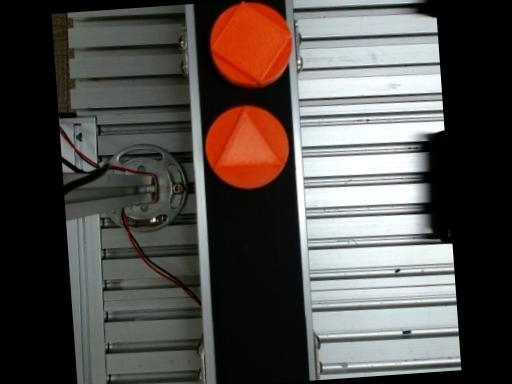Not_Square: (214, 105, 284, 168)
Orange_Waper: (205, 105, 288, 188), (210, 1, 291, 86)
Square: (209, 0, 292, 82)
